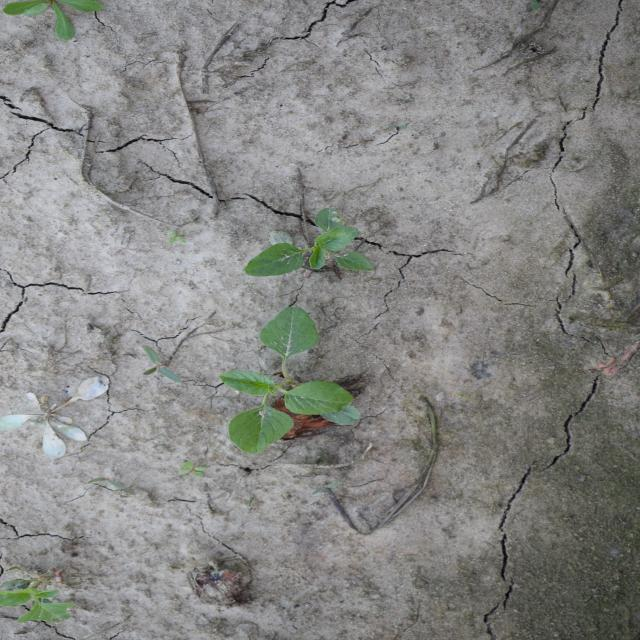Carpetweed: (0, 372, 113, 460), (2, 0, 109, 42)
PalmerAmaranth: (215, 304, 364, 456), (241, 206, 375, 278), (3, 577, 78, 629)
